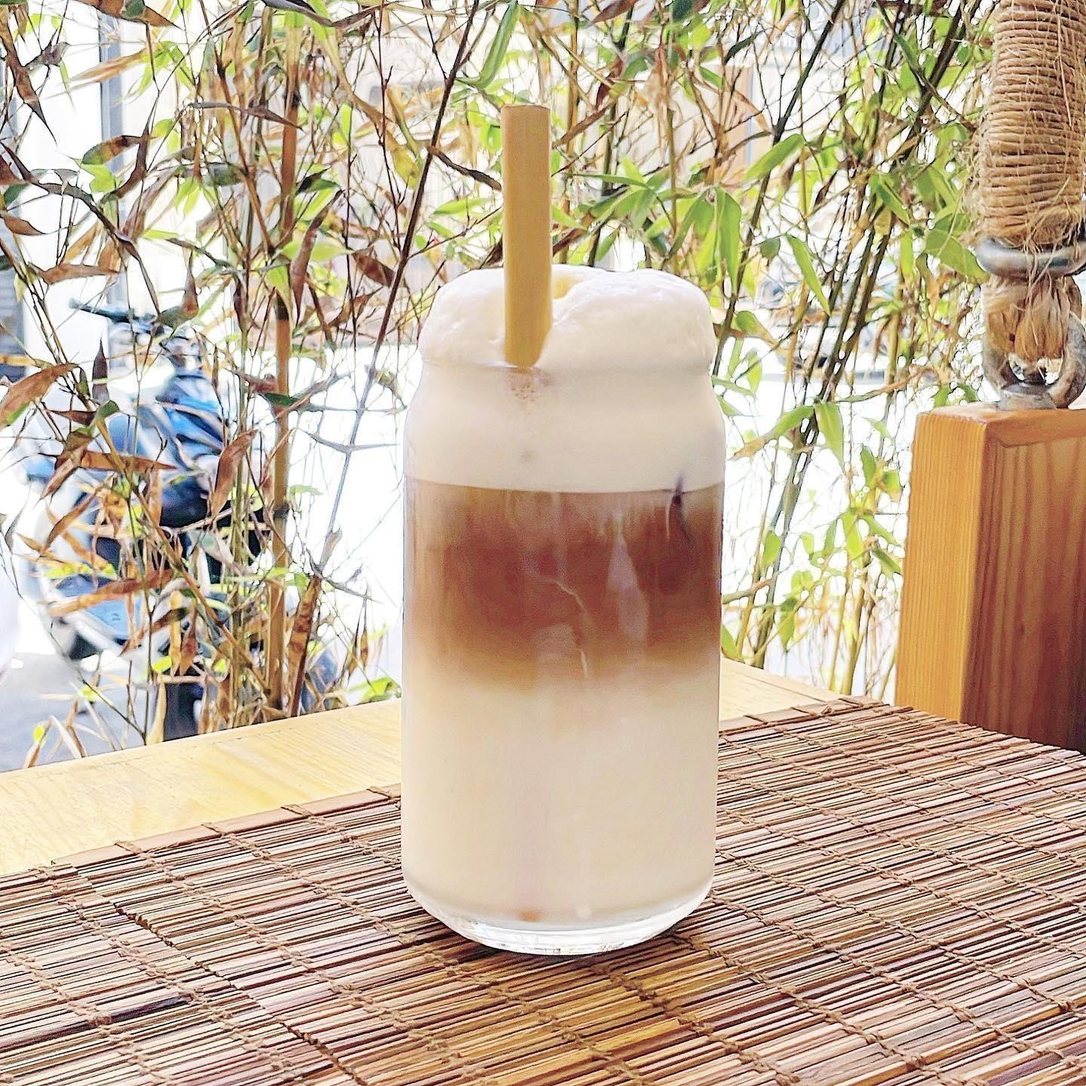cup-disposable: (391, 262, 747, 974)
